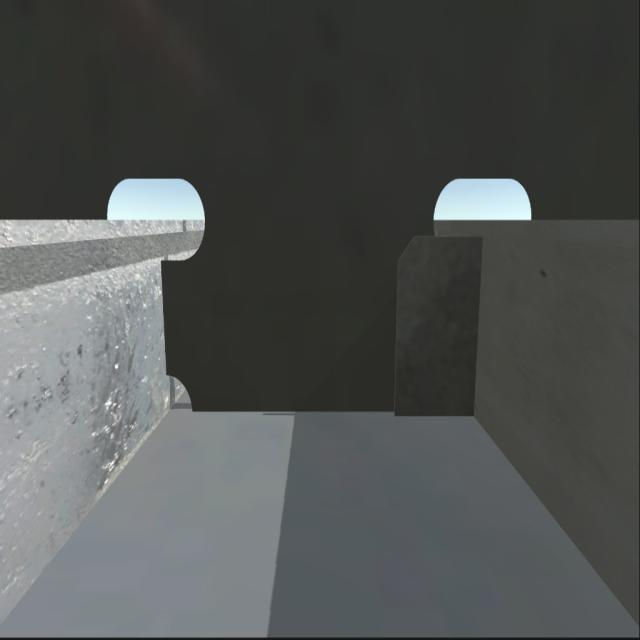fillet_hole: (159, 370, 201, 417)
fillet_yong_jeop_jang: (189, 392, 489, 427)
longi_yong_jeop_jang: (465, 226, 494, 422), (155, 240, 176, 383)
plate_CP03: (389, 230, 484, 412)
